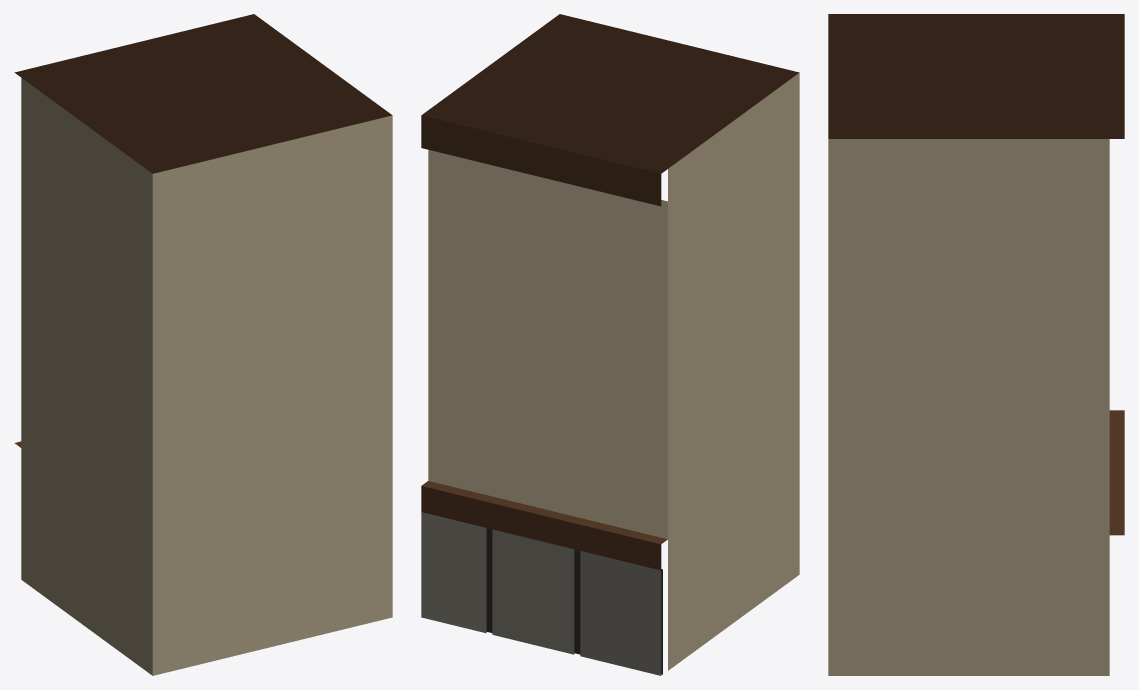
The model's file is tile_house_wall_14.glb.
3 renders of one model, left to right at view 1: azimuth 30°, elevation 25°; view 2: azimuth 150°, elevation 25°; view 3: azimuth 270°, elevation 25°, orthographic. The views are drawn at different scales.
Visible parts, largest first — view 1: tile_house_wall_14; view 2: tile_house_wall_14; view 3: tile_house_wall_14.
Boxes of the visible parts, x1,y1,x2,y2 form: tile_house_wall_14: (14,14,392,675); tile_house_wall_14: (421,14,799,675); tile_house_wall_14: (828,14,1124,675).
Bounding box in the file's own units: 1 × 2 × 1.
